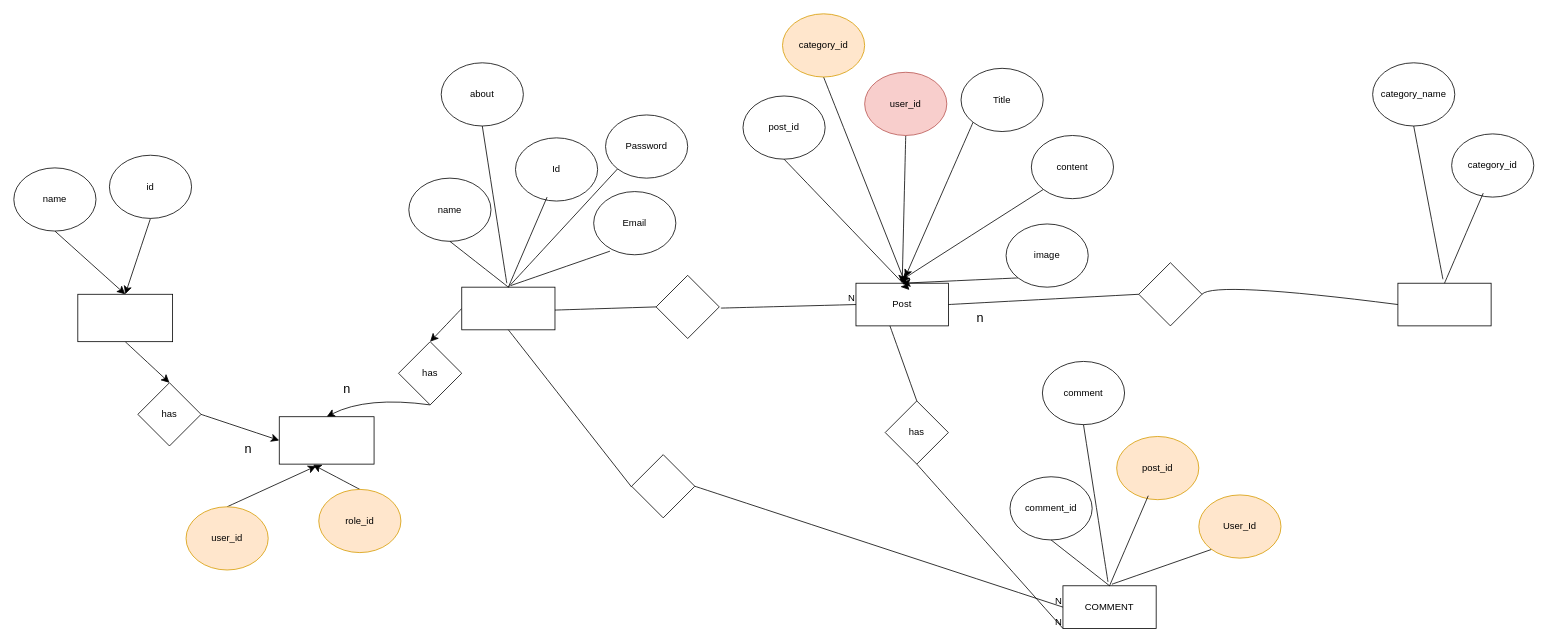
This 1548x642 diagram has some shape labels left out. The shapes that lost their labels are listed below. From the top down, each one's box as (x1, y1, x2, y2) in pixels, then its label:
(461, 286, 555, 330): USER
(655, 275, 719, 339): created
(1138, 262, 1202, 326): belong
(1397, 282, 1491, 326): Category
(77, 293, 173, 342): roles
(278, 416, 374, 464): user_Roles
(631, 454, 695, 518): write
